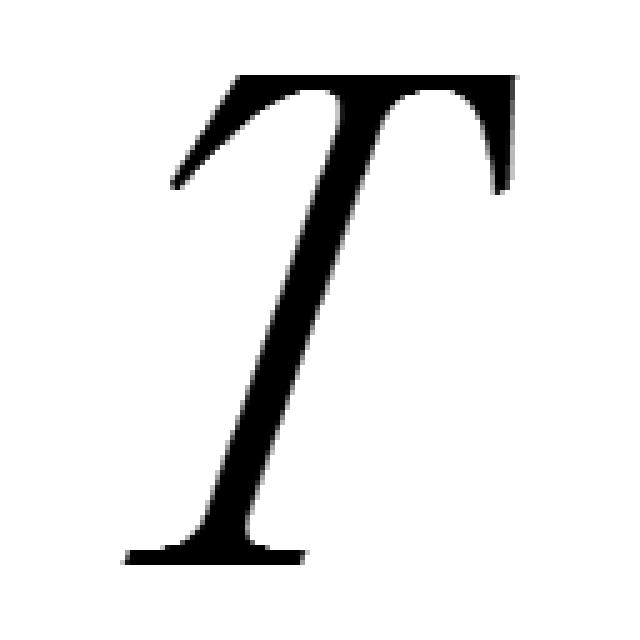T: (115, 60, 520, 570)
